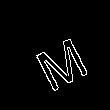M_NW: (23, 22, 87, 88)
